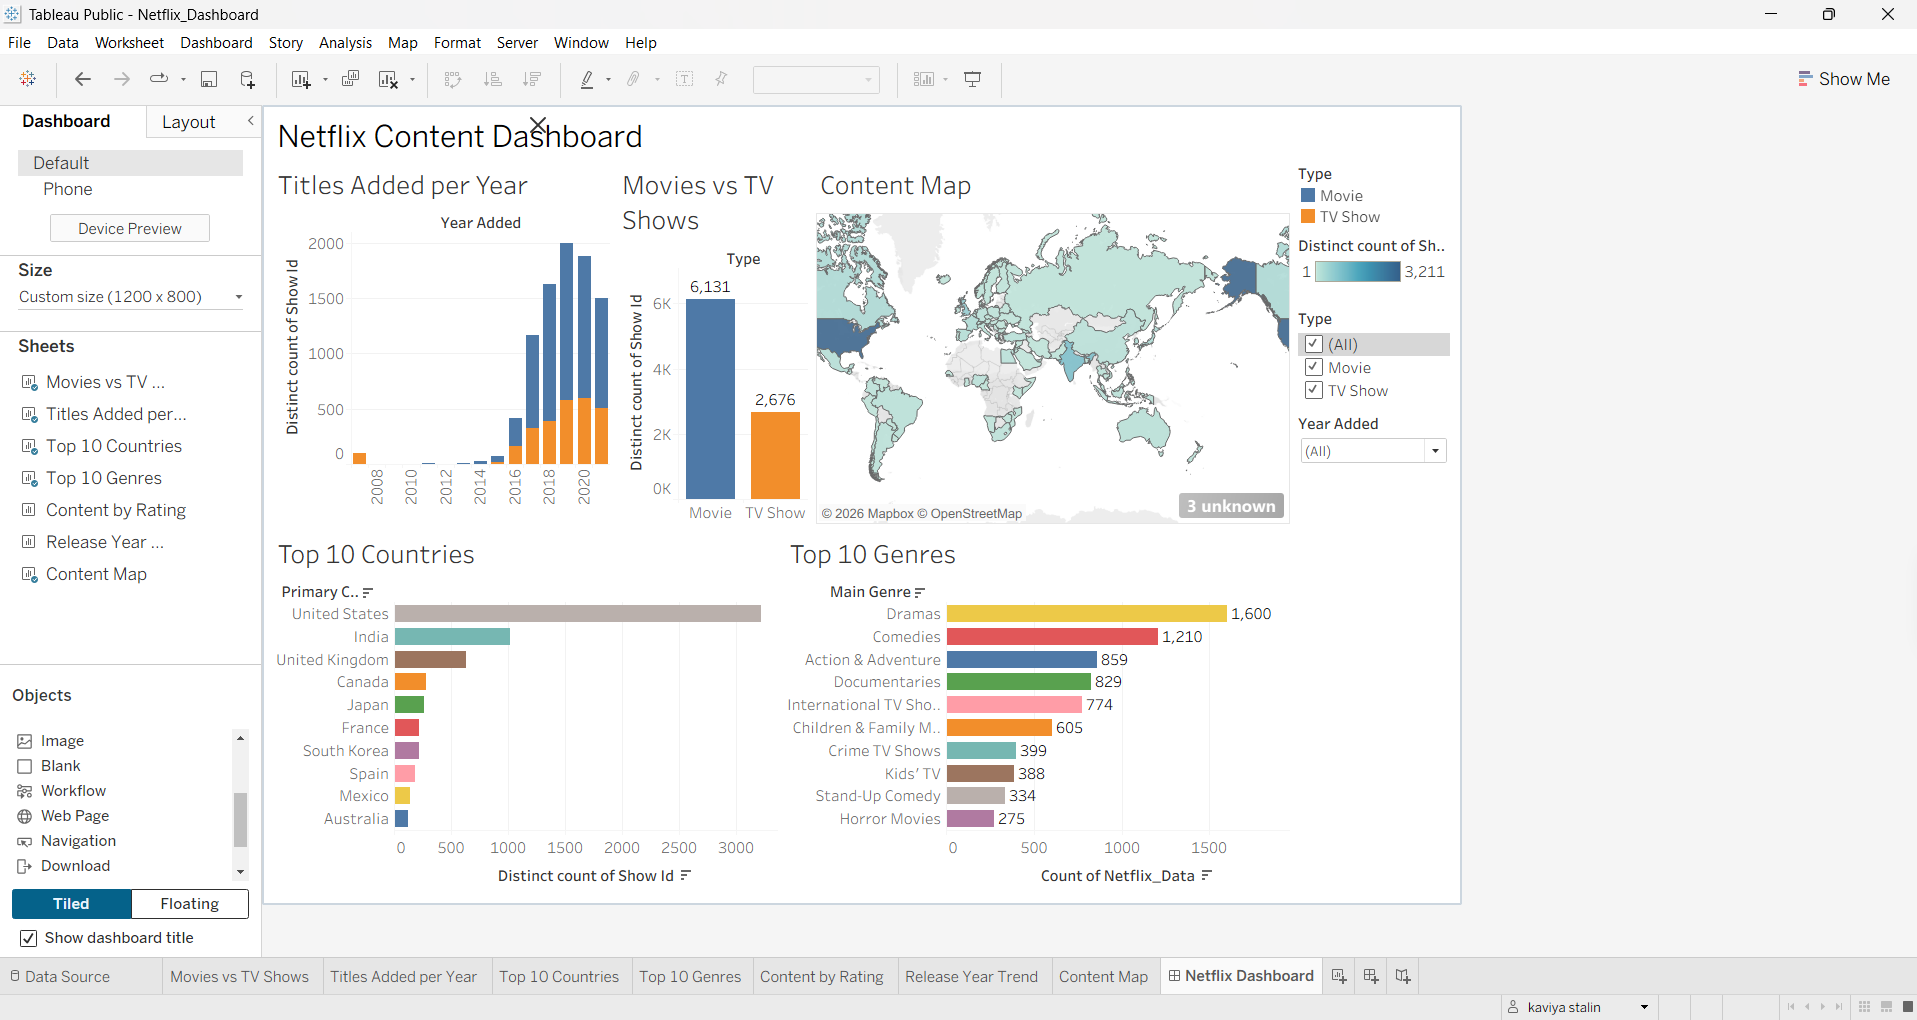

Layout of this report page (visuals, bound fields, positions):
{"tool":"tableau","page":{"name":"Netflix Dashboard","canvas":[1200,800],"ordinal":0},"visuals":[{"type":"title","box":[8,8,1184,46]},{"type":"dashboard-object","box":[264,8,24,24]},{"type":"worksheet","title":"Titles Added per Year","mark":"Automatic","rows":["show_id"],"cols":["Year Added"],"box":[8,54,344,369]},{"type":"worksheet","title":"Movies vs TV Shows","mark":"Automatic","rows":["show_id"],"cols":["type"],"box":[352,54,198,369]},{"type":"worksheet","title":"Content Map","mark":"Multipolygon","box":[550,54,482,369]},{"type":"legend","title":"Titles Added per Year","param":"[federated.07z1n240zuxqa314earmy0f3bmsl].[none:type:nk]","box":[1032,54,160,72]},{"type":"legend","title":"Content Map","param":"[federated.07z1n240zuxqa314earmy0f3bmsl].[ctd:show_id:qk]","box":[1032,126,160,73]},{"type":"filter","title":"Titles Added per Year","param":"[federated.07z1n240zuxqa314earmy0f3bmsl].[none:type:nk]","box":[1032,199,160,105]},{"type":"filter","title":"Titles Added per Year","param":"[federated.07z1n240zuxqa314earmy0f3bmsl].[none:Year Added:ok]","box":[1032,304,160,61]},{"type":"worksheet","title":"Top 10 Countries","mark":"Automatic","rows":["Primary Country"],"cols":["show_id"],"box":[8,423,512,369]},{"type":"worksheet","title":"Top 10 Genres","mark":"Automatic","rows":["Main Genre"],"cols":["Netflix!Data_245C0074584B4E14A92725AB4E05F6FB"],"box":[520,423,512,369]}]}

Visuals, with their boxes on the page's 1200x800 design canvas (x1, y1, x2, y2). These are canvas units, not pixel positions in the 1917x1020 screenshot, which may show the page scaled, cropped or inside an application window:
title: x1=8, y1=8, x2=1192, y2=54
dashboard-object: x1=264, y1=8, x2=288, y2=32
"Titles Added per Year" worksheet: x1=8, y1=54, x2=352, y2=423
"Movies vs TV Shows" worksheet: x1=352, y1=54, x2=550, y2=423
"Content Map" worksheet (Multipolygon marks): x1=550, y1=54, x2=1032, y2=423
"Titles Added per Year" legend: x1=1032, y1=54, x2=1192, y2=126
"Content Map" legend: x1=1032, y1=126, x2=1192, y2=199
"Titles Added per Year" filter: x1=1032, y1=199, x2=1192, y2=304
"Titles Added per Year" filter: x1=1032, y1=304, x2=1192, y2=365
"Top 10 Countries" worksheet: x1=8, y1=423, x2=520, y2=792
"Top 10 Genres" worksheet: x1=520, y1=423, x2=1032, y2=792
